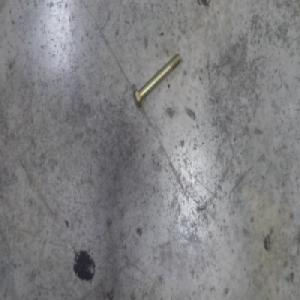Bolt: (131, 54, 181, 110)
